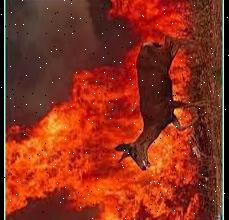fire: (4, 56, 133, 220), (148, 144, 216, 220), (105, 0, 183, 32)
